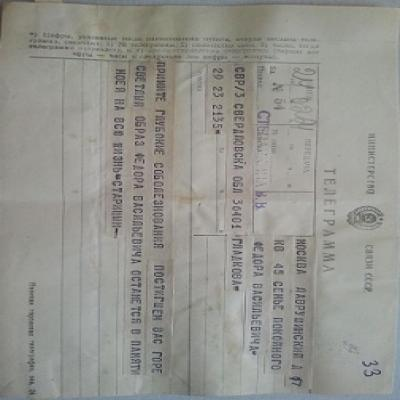document: (0, 5, 400, 398)
